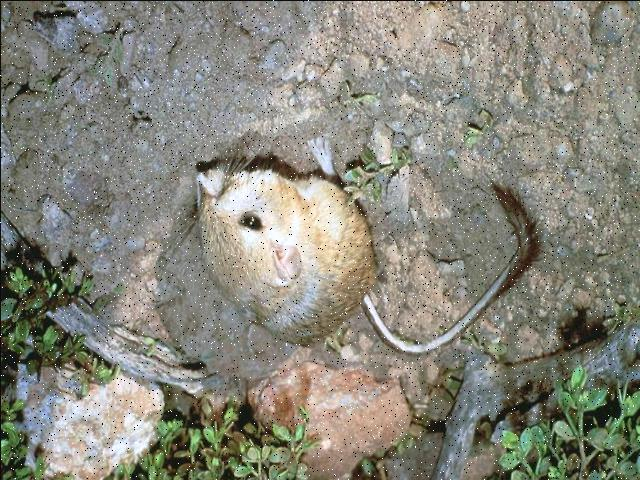Tikus: (208, 155, 508, 352)
